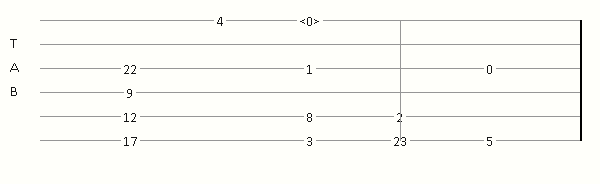0: (486, 62, 497, 75)
1: (306, 62, 317, 75)
12: (123, 110, 141, 123)
17: (123, 134, 141, 147)
2: (396, 110, 407, 123)
22: (123, 62, 141, 75)
23: (393, 134, 411, 147)
3: (306, 134, 317, 147)
4: (216, 14, 227, 27)
5: (486, 134, 497, 147)
8: (306, 110, 317, 123)
9: (126, 86, 137, 99)
harmonic: (299, 14, 324, 27)
